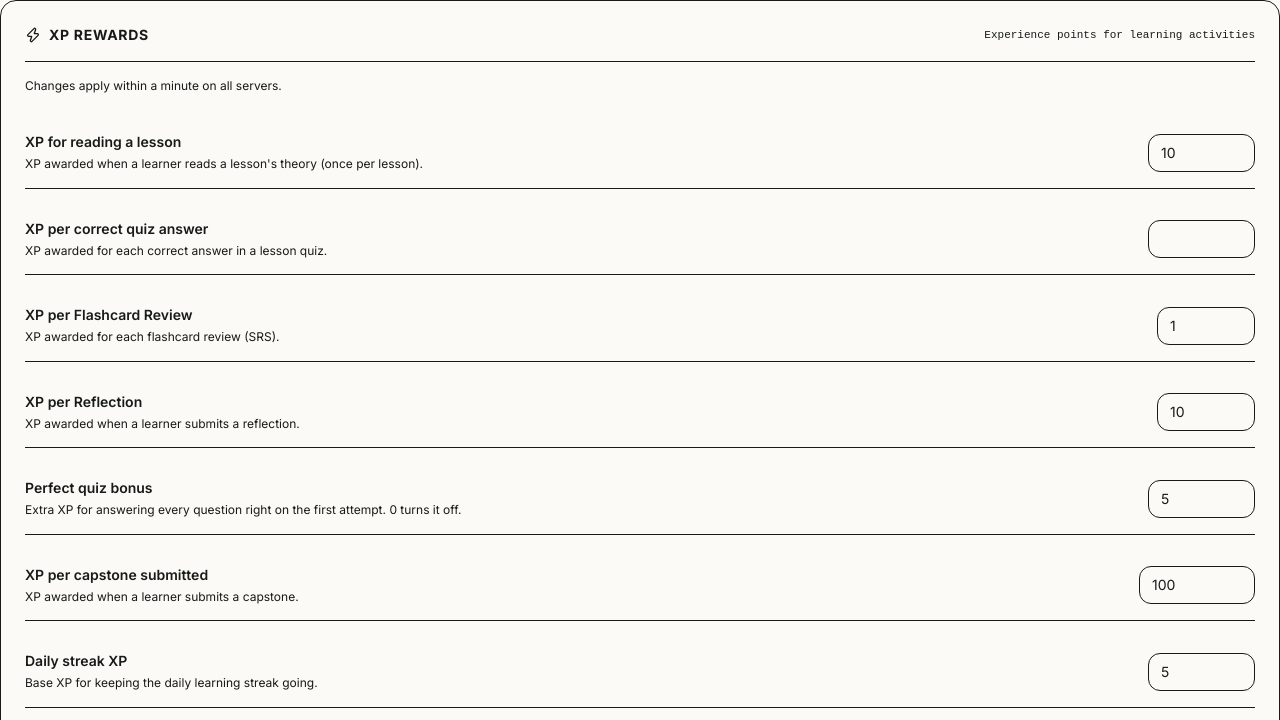
LearningSettingsSection XP inputs › Reset clears an invalid box even when nothing else changed
Clear the number field named "XP per correct quiz answer". click: [1202, 239]
box: [1148, 220, 1255, 258]
(page scrolled)
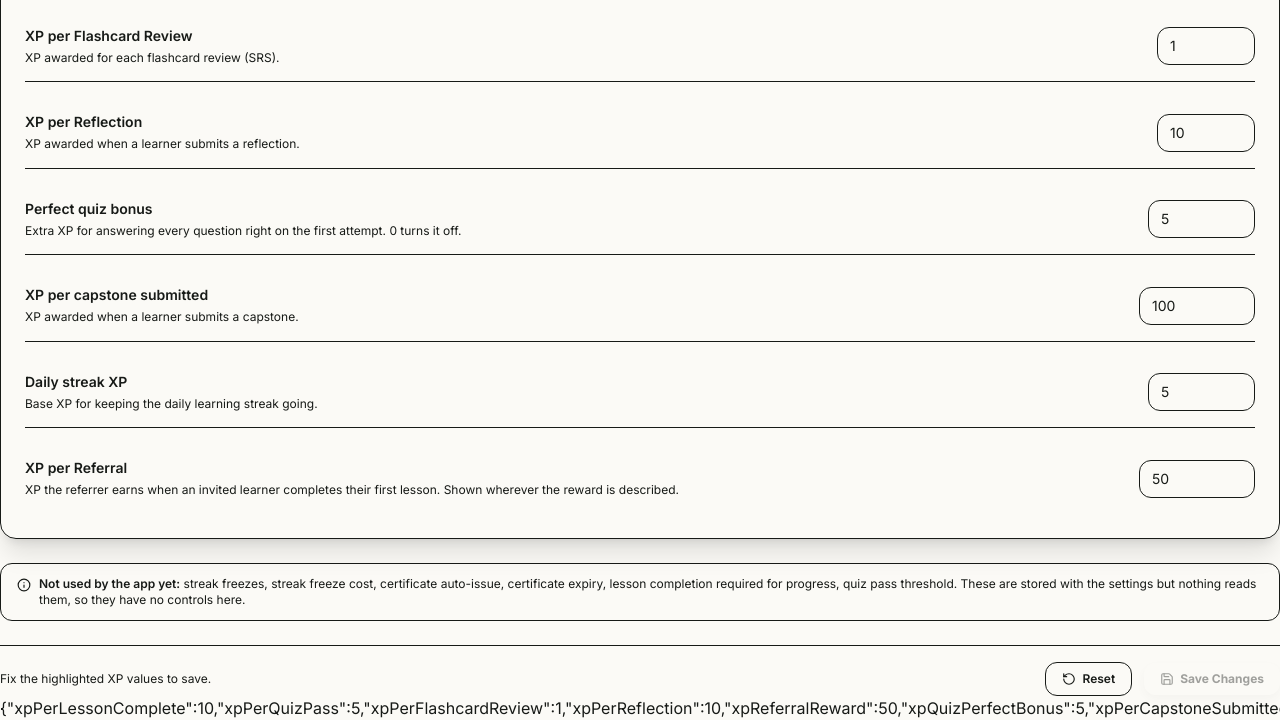
Expected: the button "Reset" is enabled
Click the button "Reset". click: [1089, 678]
box: [1046, 662, 1132, 696]
(page scrolled)
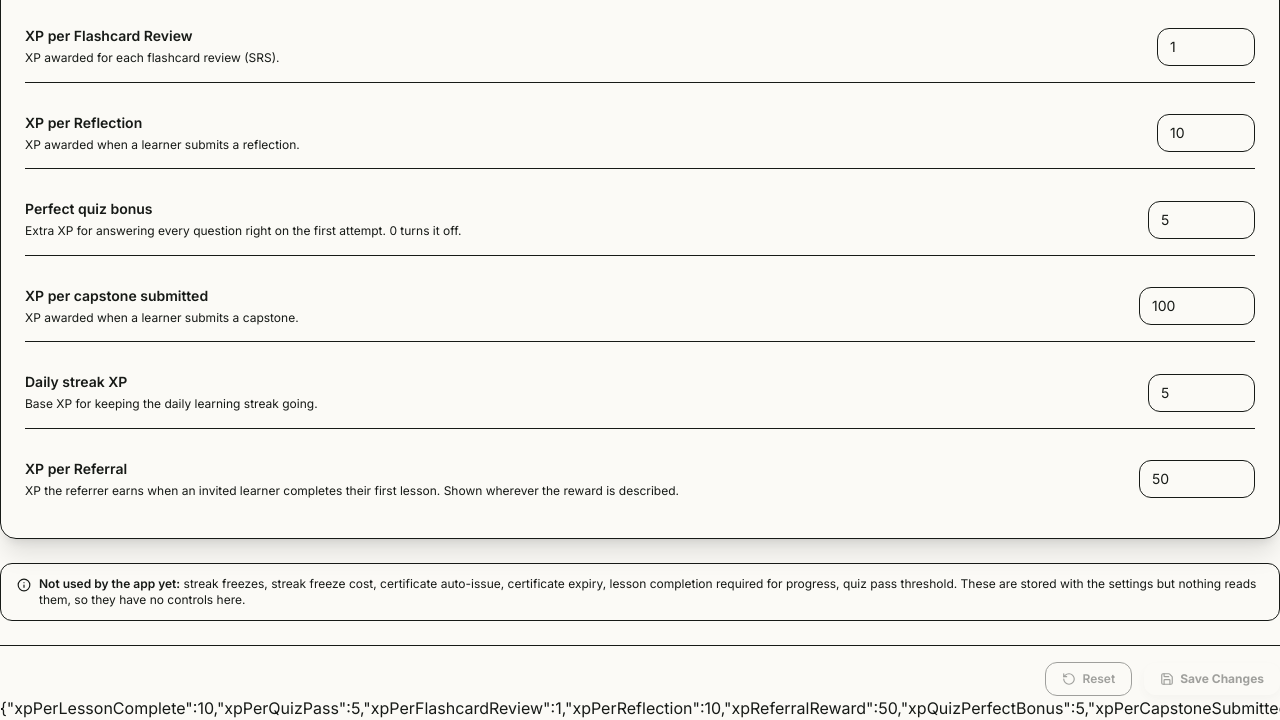
Expected: the button "Reset" is disabled, [1046, 662, 1132, 696]
